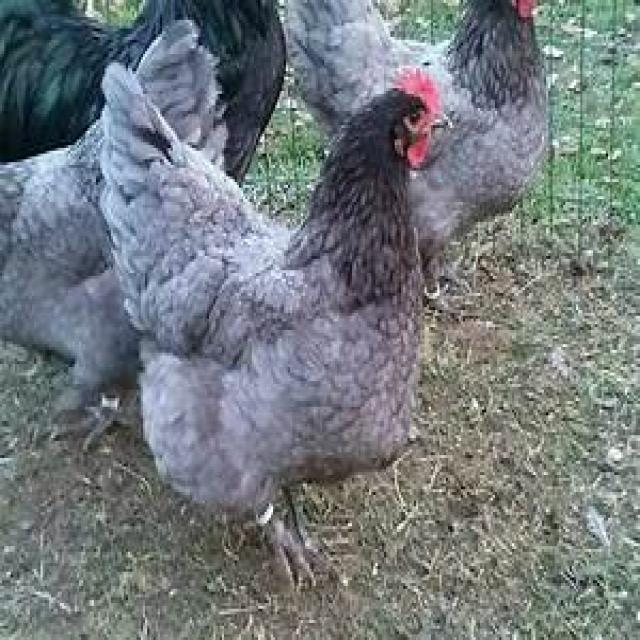hen: (98, 65, 439, 586)
